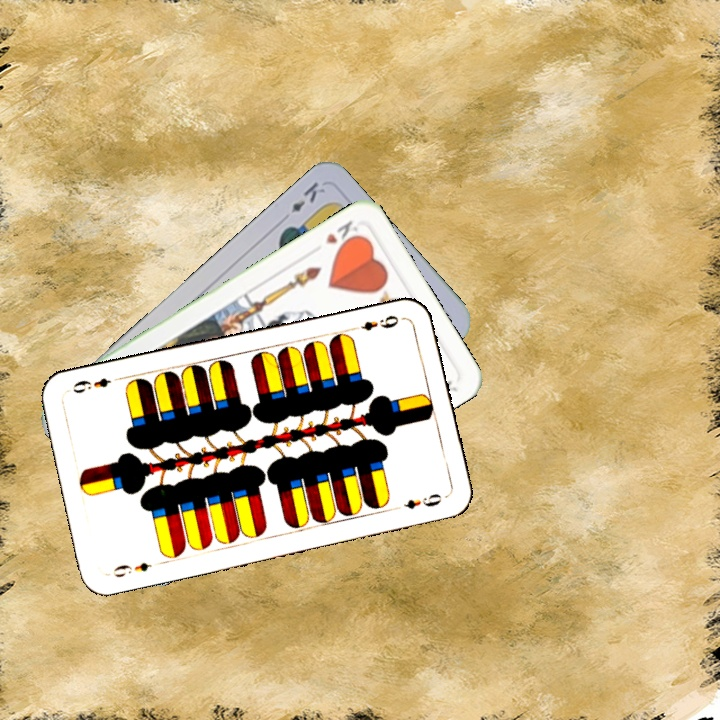E9: (348, 311, 402, 334), (105, 558, 154, 580)
EK: (286, 177, 328, 216)
HK: (321, 216, 363, 253)
